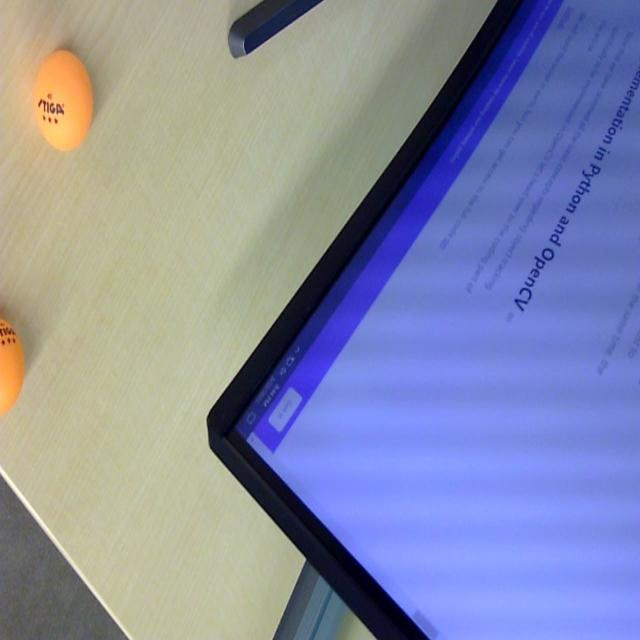ball: (31, 43, 95, 157), (0, 310, 27, 421)
